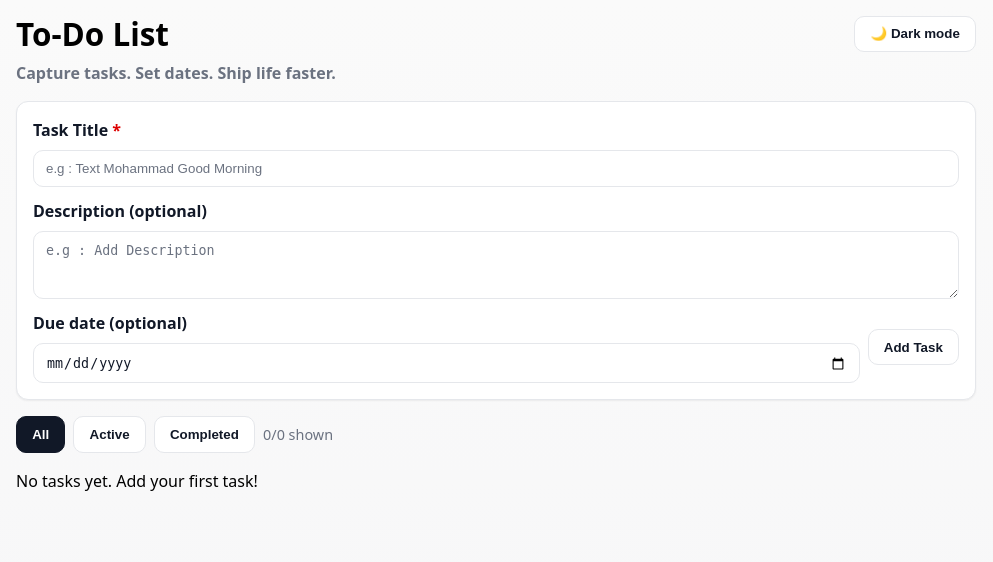
it: can toggle a task as completed
The image size is (993, 562).
# Add a new task
Step 1. Type "Walk dog" into the field labelled "Task Title *" → (496, 169), box [33,150,959,188]
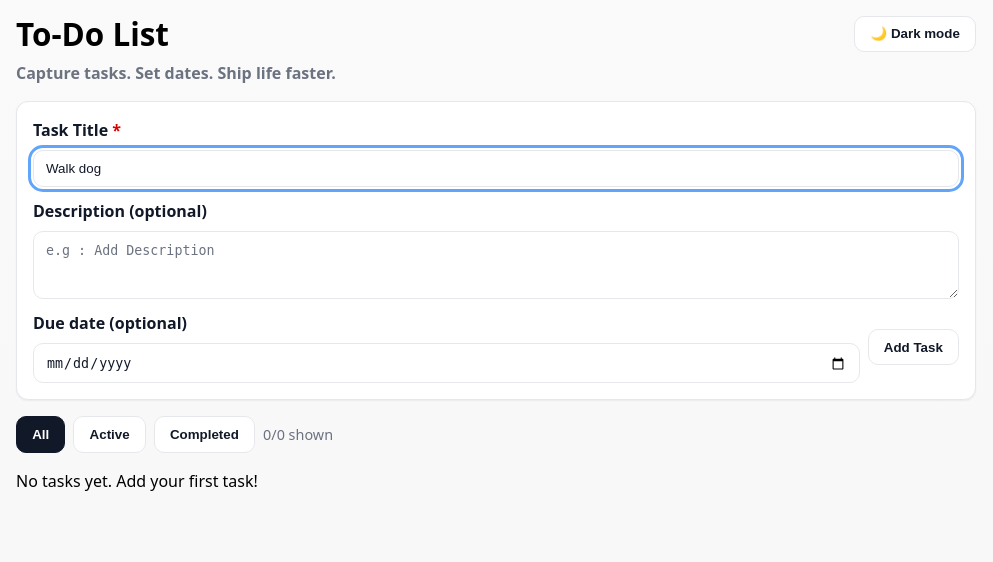
Step 2. Click the button "Add Task" → (913, 347), box [868,329,959,365]
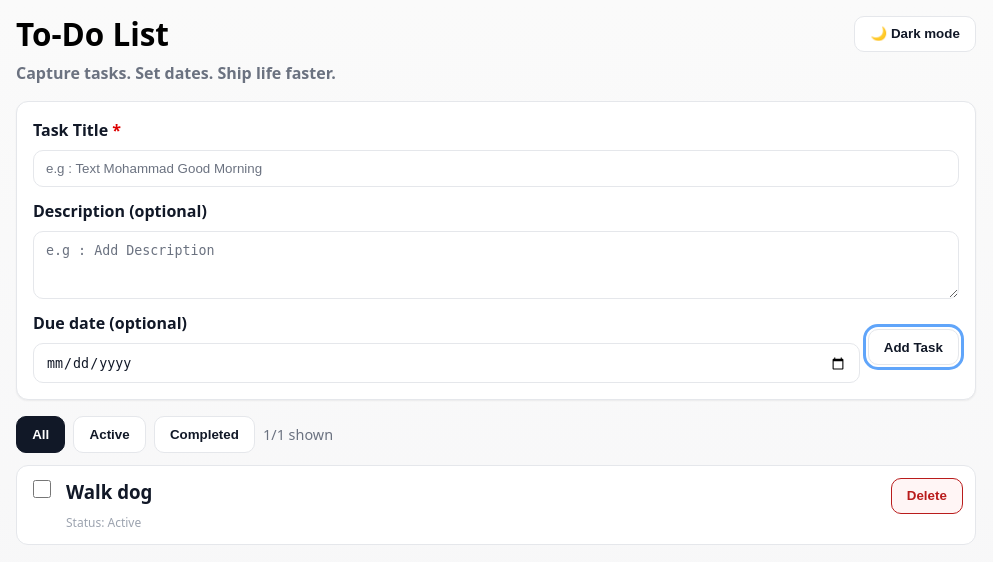
Expected: the checkbox labelled "Walk dog" is not checked
Step 3. Click the checkbox labelled "Walk dog" → (42, 489), box [33,480,51,498]
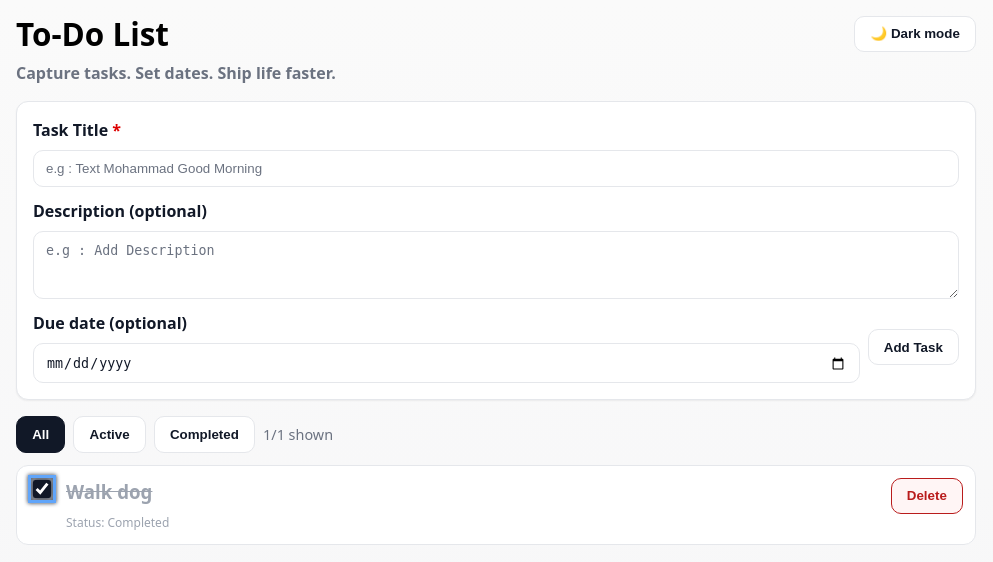
Expected: the checkbox labelled "Walk dog" is checked, [33,480,51,498]
Expected: the text "Status: Completed" is shown, [66,514,169,532]
